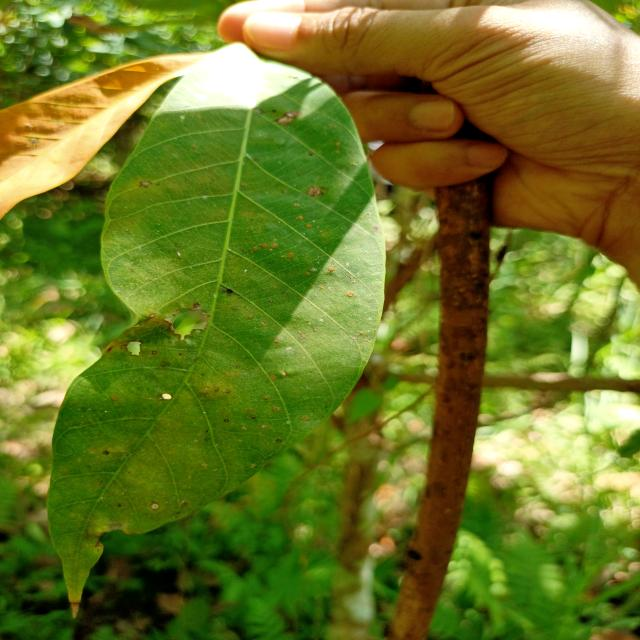Colletotrichum: (150, 502, 160, 510), (226, 289, 233, 294), (151, 350, 157, 355), (103, 450, 109, 455), (223, 418, 229, 423), (236, 365, 241, 369)
